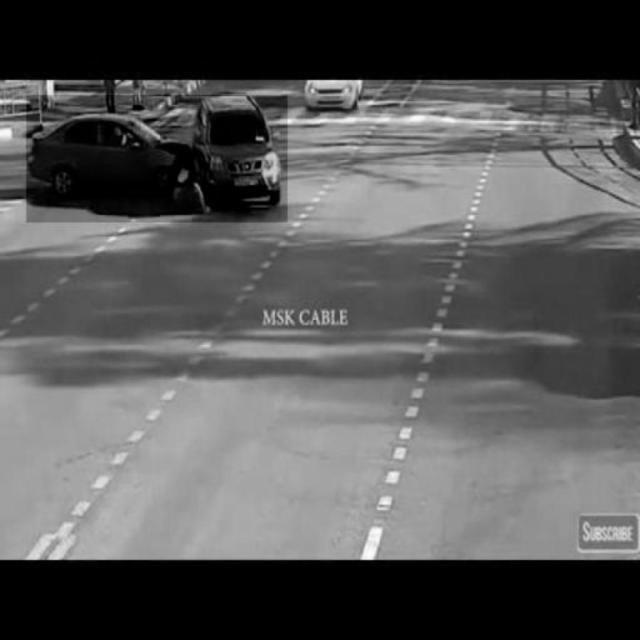accident: (27, 95, 288, 223)
